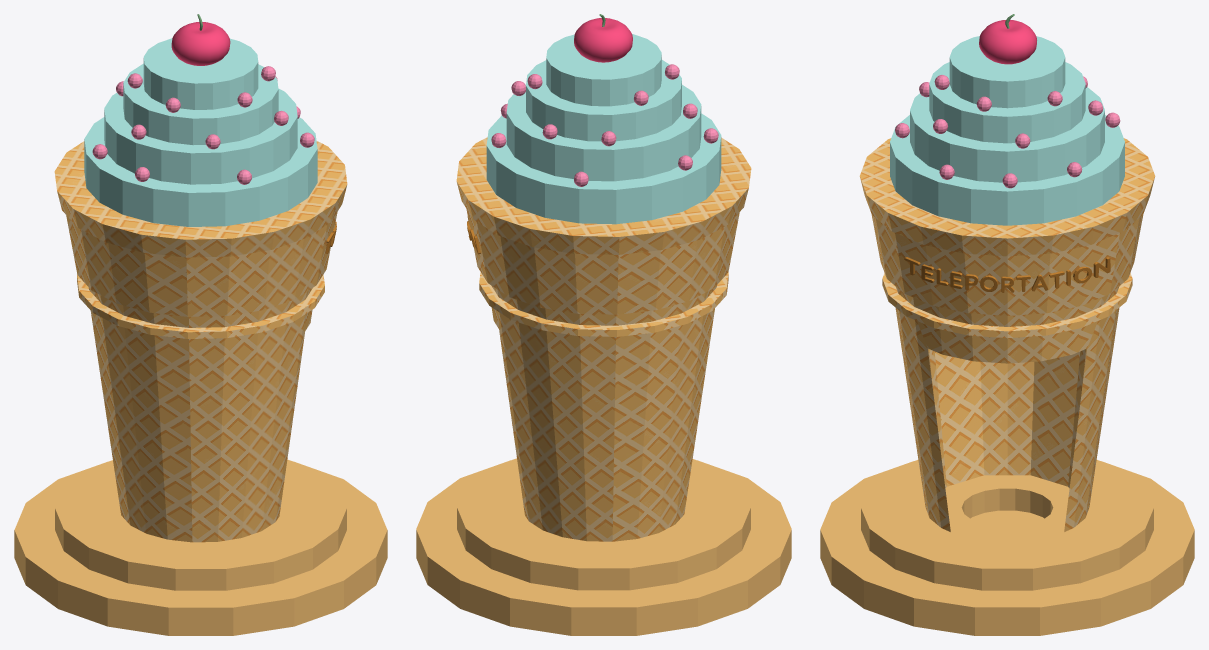
File: D2_TELETRANSPORTATION_POD.fbx
3 renders of one model, left to right at view 1: azimuth 30°, elevation 25°; view 2: azimuth 150°, elevation 25°; view 3: azimuth 270°, elevation 25°, orthographic.
Visible parts, largest first — view 1: D2_TELETRANSPORTATION_POD; view 2: D2_TELETRANSPORTATION_POD; view 3: D2_TELETRANSPORTATION_POD.
Boxes of the visible parts, left/top/right/bottom form: D2_TELETRANSPORTATION_POD: left=14, top=14, right=387, bottom=635; D2_TELETRANSPORTATION_POD: left=416, top=14, right=791, bottom=635; D2_TELETRANSPORTATION_POD: left=820, top=14, right=1194, bottom=635.
Bounding box in the file's own units: 332 × 540 × 337.
Materials: 7 (1 with a texture image).
